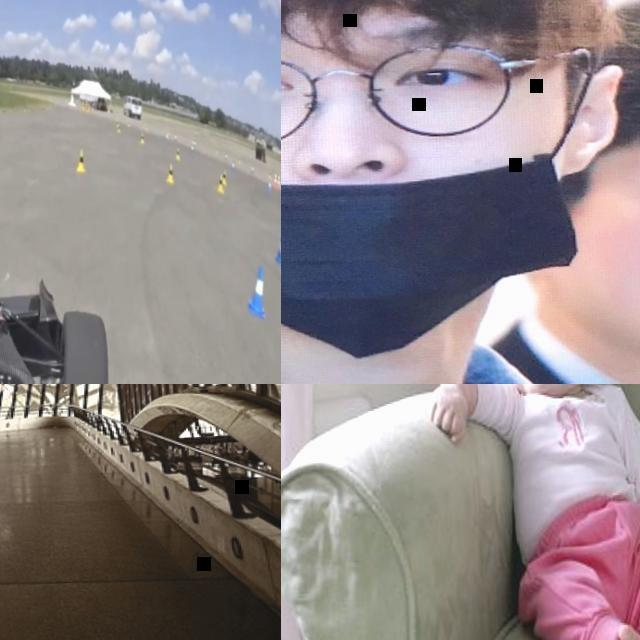mask: (281, 90, 611, 374)
no_helmet: (281, 0, 602, 82), (596, 0, 640, 152)
no_mask: (544, 223, 640, 370), (509, 384, 566, 394)
no_vest: (510, 388, 635, 542)
person: (281, 0, 627, 384), (460, 0, 640, 384), (418, 384, 640, 640)
safety_cone: (244, 260, 269, 320), (76, 148, 90, 172), (166, 162, 178, 186), (275, 229, 281, 266), (217, 174, 226, 195), (221, 166, 228, 187), (139, 131, 146, 147), (175, 146, 181, 164), (116, 120, 123, 134), (273, 170, 277, 190), (277, 173, 281, 192), (268, 180, 272, 196), (128, 117, 132, 128)
vehicle: (0, 203, 150, 384), (122, 94, 143, 118)
